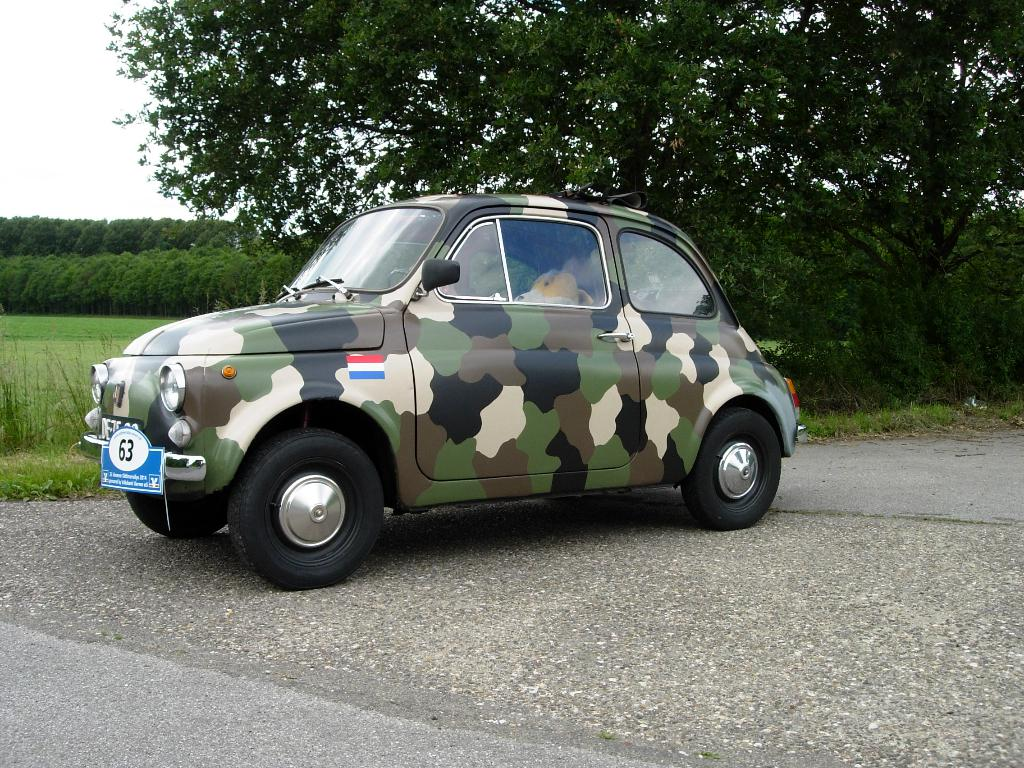Car: (71, 184, 805, 588)
